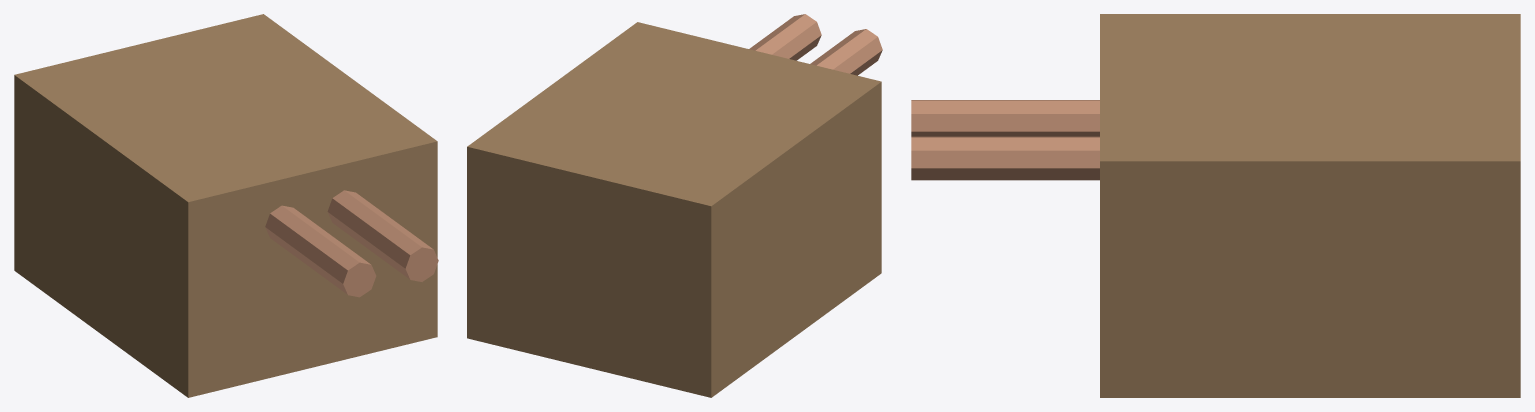
The model's file is SM_ShotgunTrap.fbx.
3 views of the same model, side by side, from view 1: azimuth 30°, elevation 25°; view 2: azimuth 150°, elevation 25°; view 3: azimuth 270°, elevation 25° (orthographic). The views are drawn at different scales.
Visible parts, largest first — view 1: SM_ShotgunTrap; view 2: SM_ShotgunTrap; view 3: SM_ShotgunTrap.
Boxes of the visible parts, bbox=[...] form: SM_ShotgunTrap: bbox=[14, 14, 438, 397]; SM_ShotgunTrap: bbox=[467, 14, 882, 397]; SM_ShotgunTrap: bbox=[911, 14, 1520, 397].
Bounding box in the file's own units: 4800 × 8400 × 3600.
